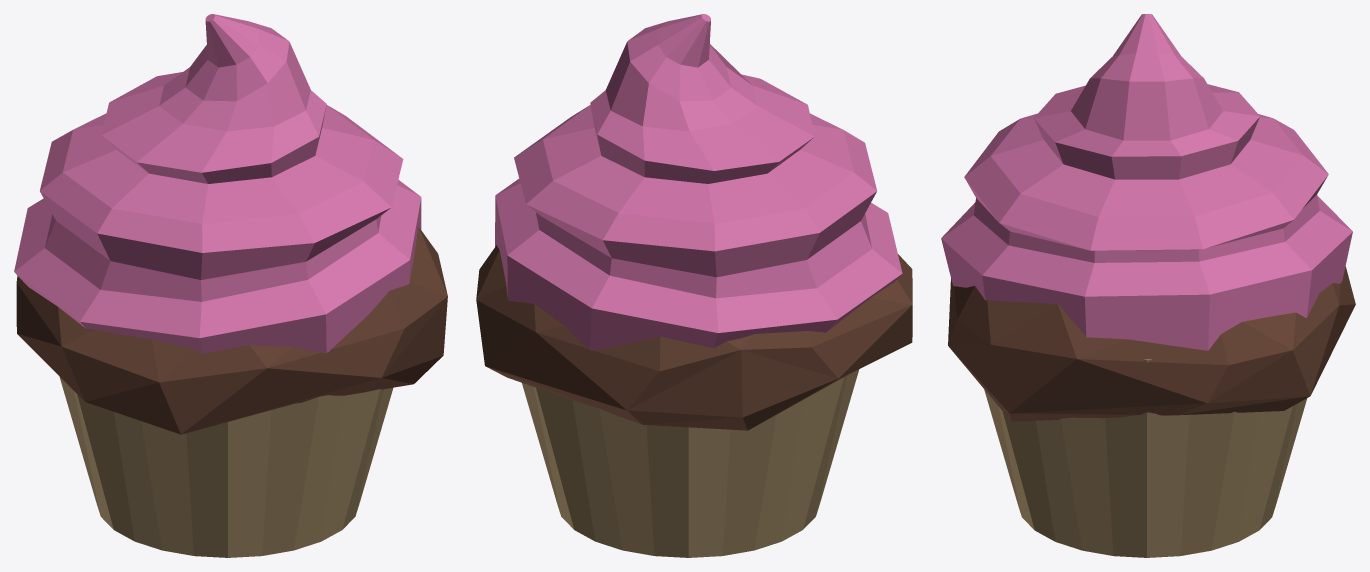
The model's file is Cupcake.glb.
The picture shows the model from 3 angles, left to right: view 1: azimuth 30°, elevation 25°; view 2: azimuth 150°, elevation 25°; view 3: azimuth 270°, elevation 25°; orthographic projection.
Visible parts, largest first — view 1: Cupcake; view 2: Cupcake; view 3: Cupcake.
Boxes of the visible parts, x1,y1,x2,y2 form: Cupcake: (14, 14, 447, 557); Cupcake: (476, 14, 912, 557); Cupcake: (941, 14, 1355, 557).
Bounding box in the file's own units: 0.0808 × 0.1025 × 0.0798.
